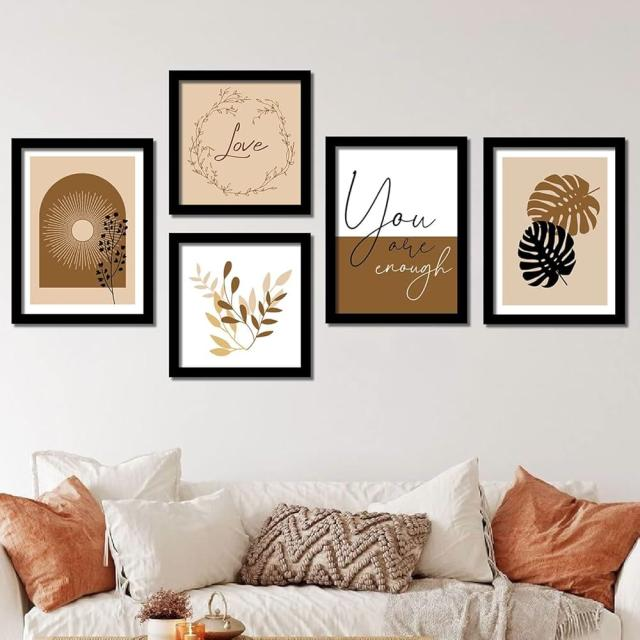painting: (12, 136, 156, 325), (484, 136, 628, 325), (327, 139, 471, 327), (170, 69, 314, 218), (170, 232, 314, 380)
